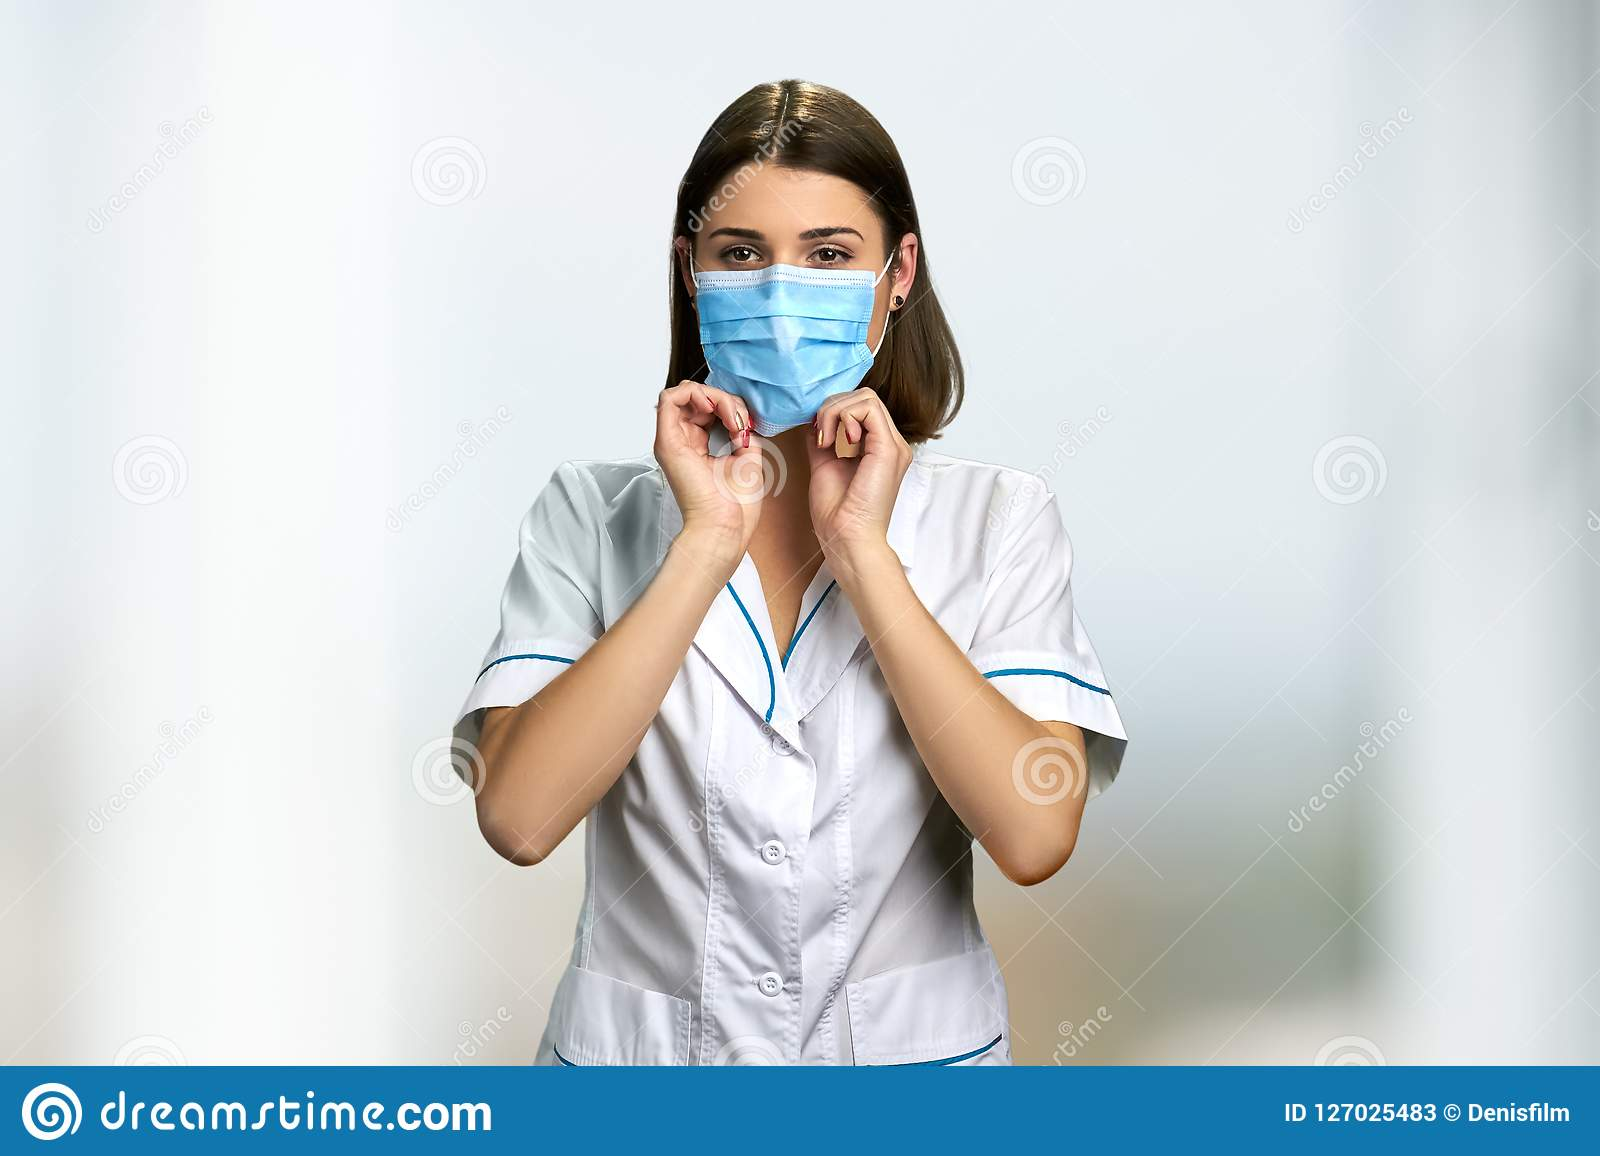mask: (684, 260, 882, 437)
